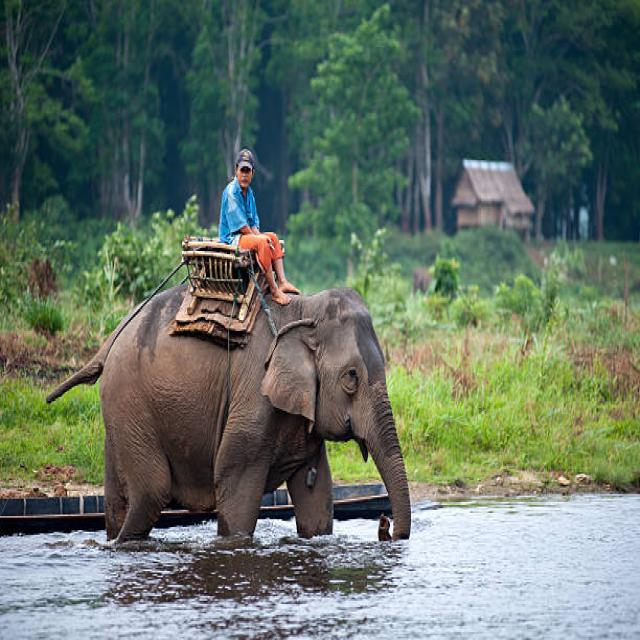Elephant: (71, 253, 415, 555)
